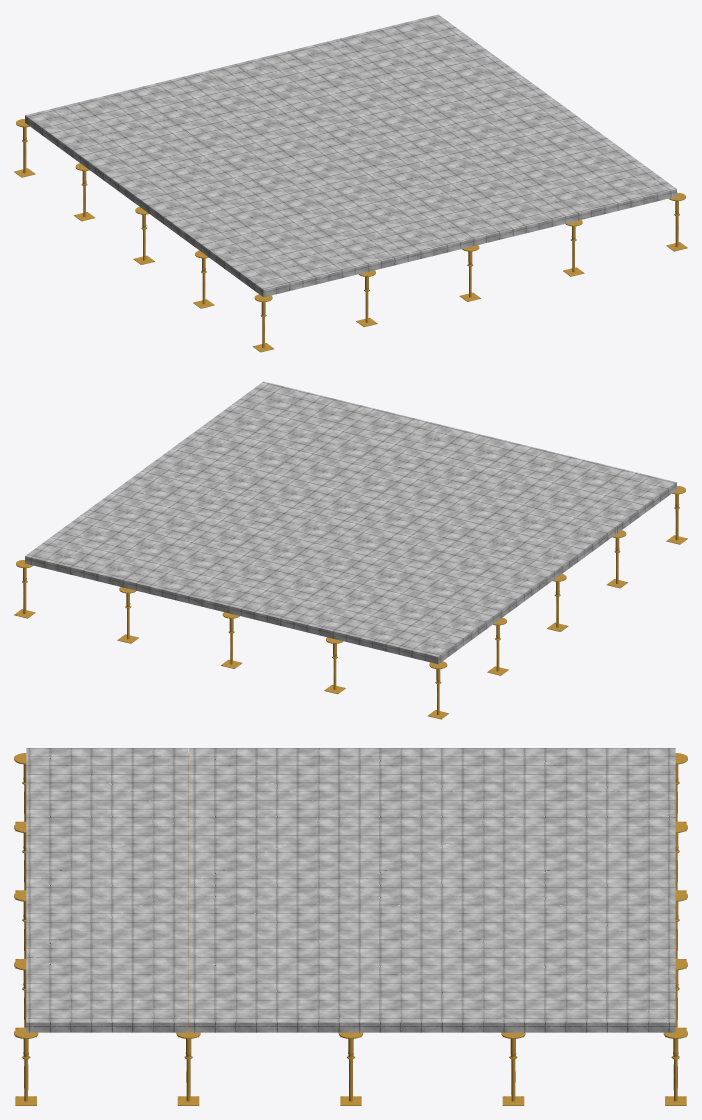
File: Kingspan Access Floors - Pedestal.fbx
3 views of the same model, one above another, from view 1: azimuth 30°, elevation 25°; view 2: azimuth 150°, elevation 25°; view 3: azimuth 270°, elevation 25° (orthographic). The views are drawn at different scales.
Visible parts, largest first — view 1: Generic Models 1 Generic Models 1 [293173], Flooring_KingspanAccessFloors_Pedestal_Europed_Grid Europed ; view 2: Generic Models 1 Generic Models 1 [293173], Flooring_KingspanAccessFloors_Pedestal_Europed_Grid Europed ; view 3: Generic Models 1 Generic Models 1 [293173], Flooring_KingspanAccessFloors_Pedestal_Europed_Grid Europed .
Part boxes in pixels (<box>): Generic Models 1 Generic Models 1 [293173]: <box>25,14,676,297</box>; Flooring_KingspanAccessFloors_Pedestal_Europed_Grid Europed : <box>14,119,687,352</box>; Generic Models 1 Generic Models 1 [293173]: <box>25,381,676,664</box>; Flooring_KingspanAccessFloors_Pedestal_Europed_Grid Europed : <box>14,486,687,719</box>; Generic Models 1 Generic Models 1 [293173]: <box>26,748,675,1032</box>; Flooring_KingspanAccessFloors_Pedestal_Europed_Grid Europed : <box>14,753,687,1105</box>.
Size of the model in its own units: 98.03 by 12.64 by 98.03.
3 materials, 1 textured.
